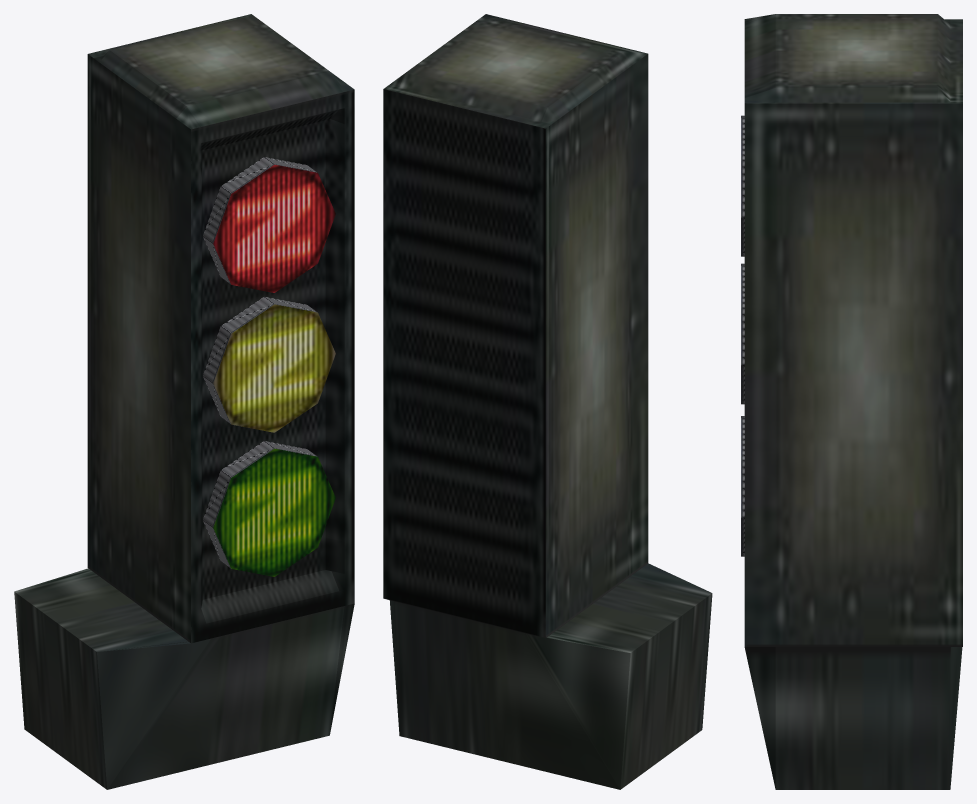
Rendered from outland_traffic_light.fbx.
The picture shows the model from 3 angles, left to right: view 1: azimuth 30°, elevation 25°; view 2: azimuth 150°, elevation 25°; view 3: azimuth 270°, elevation 25°; orthographic projection. The views are drawn at different scales.
Visible parts, largest first — view 1: Cube; view 2: Cube; view 3: Cube.
Boxes of the visible parts, x1=… form: Cube: x1=14, y1=14, x2=354, y2=789; Cube: x1=383, y1=14, x2=712, y2=789; Cube: x1=741, y1=14, x2=962, y2=789.
Bounding box in the file's own units: 59.42 × 155 × 44.42.
4 materials, 4 textured.
